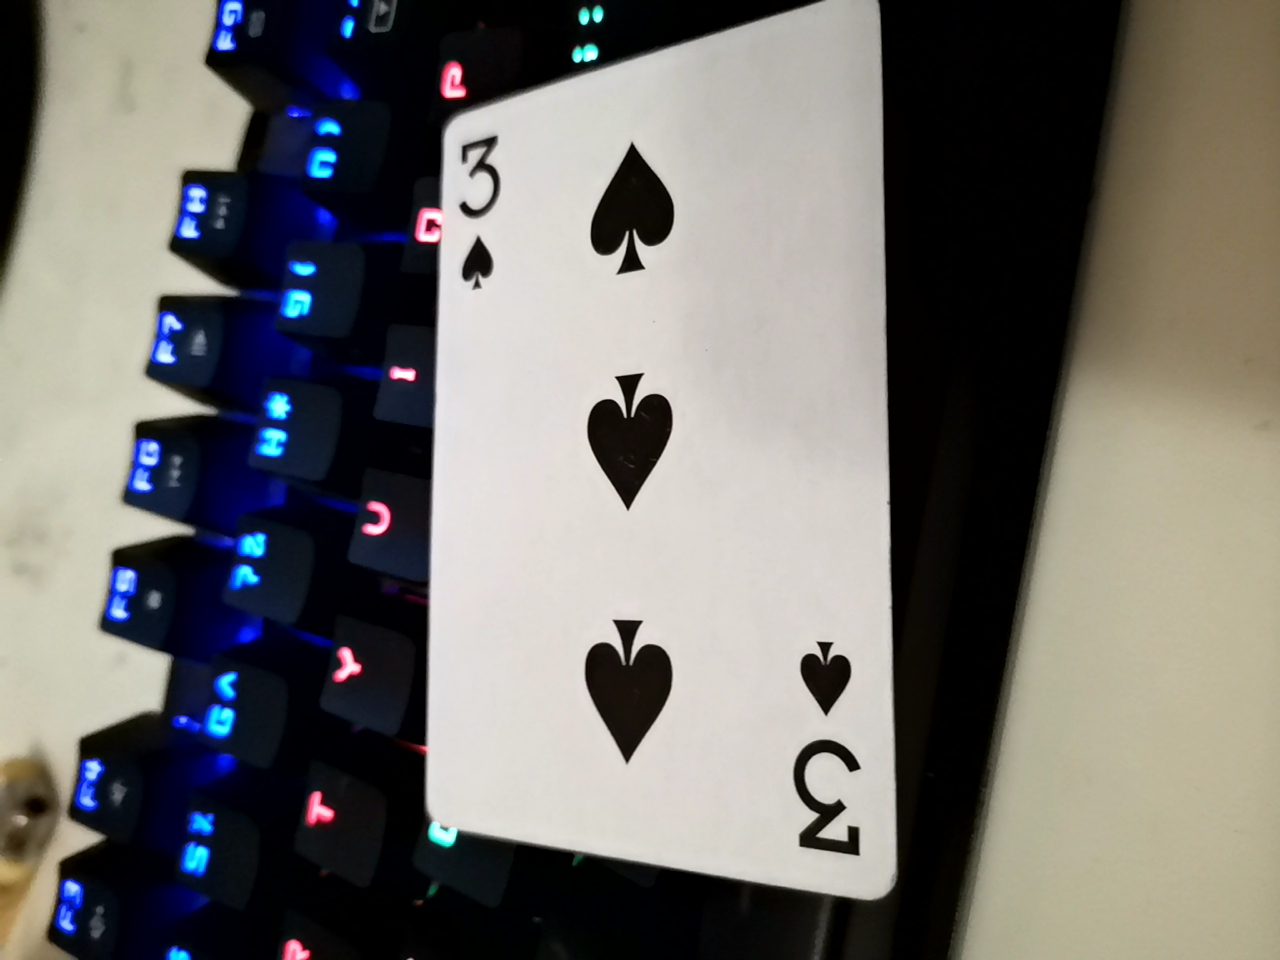ht 3: (405, 28, 898, 918)
